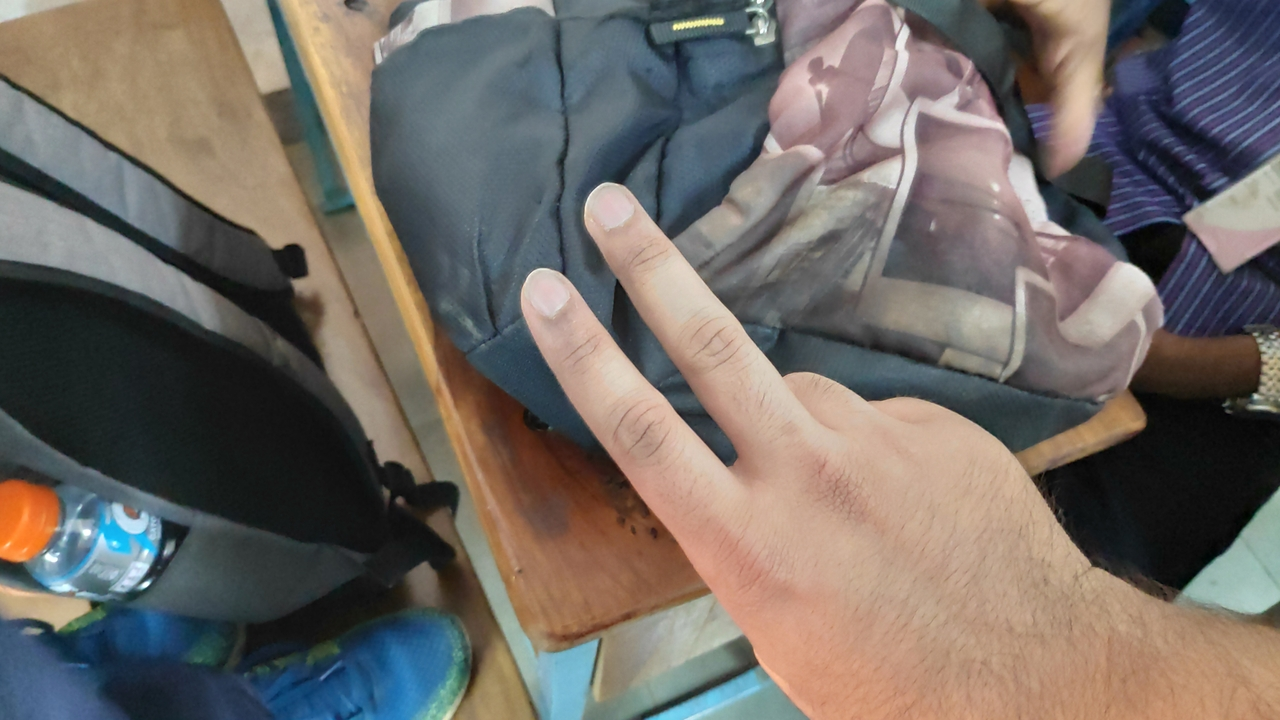fingertip: (564, 170, 656, 240), (510, 262, 582, 328)
